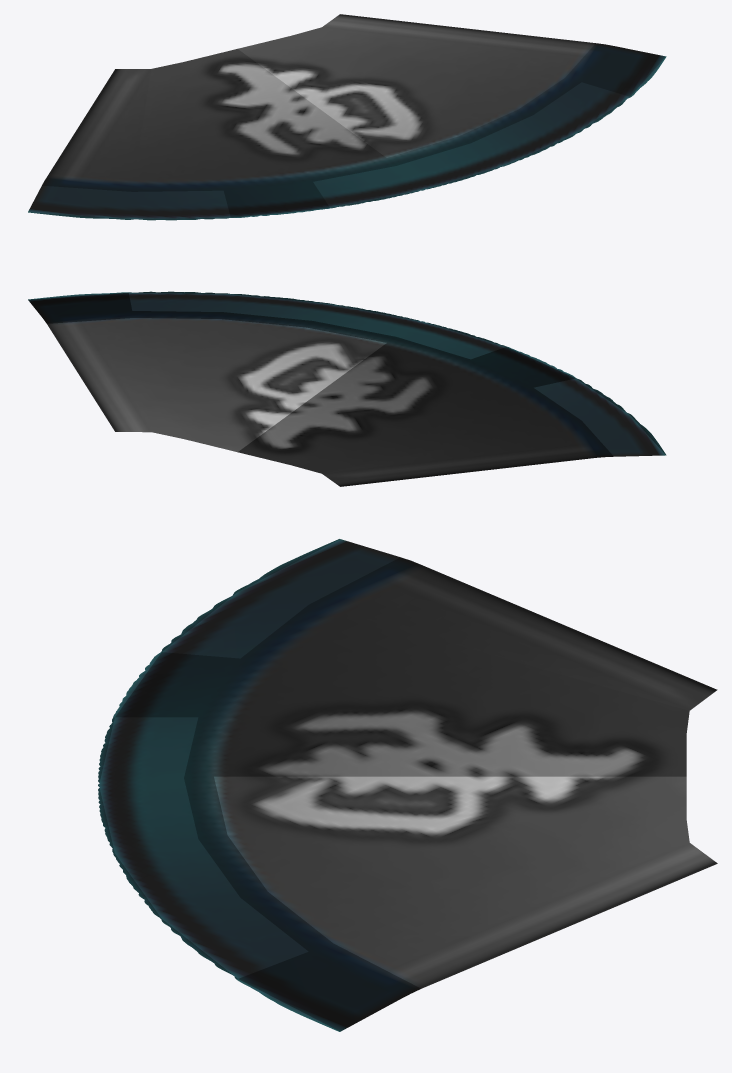
The model's file is DiceMachine_02_S.FBX.
3 renders of one model, top to bottom at view 1: azimuth 30°, elevation 25°; view 2: azimuth 150°, elevation 25°; view 3: azimuth 270°, elevation 25°, orthographic. The views are drawn at different scales.
Parts seen in each view (by area): view 1: DiceMachine_01_S_0; view 2: DiceMachine_01_S_0; view 3: DiceMachine_01_S_0.
Boxes of the visible parts, x1=… form: DiceMachine_01_S_0: x1=28, y1=14, x2=666, y2=220; DiceMachine_01_S_0: x1=28, y1=291, x2=666, y2=486; DiceMachine_01_S_0: x1=98, y1=539, x2=717, y2=1031.
Size of the model in its own units: 24.39 by 0.213 by 13.35.
1 material, 1 textured.
